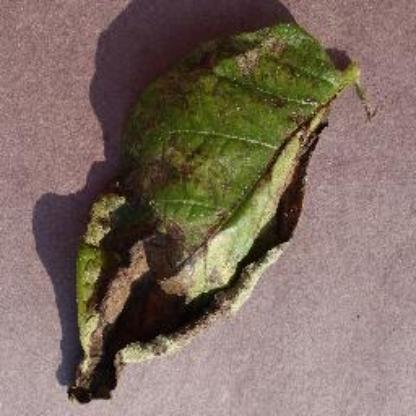Late-Blight: (52, 22, 374, 409)
